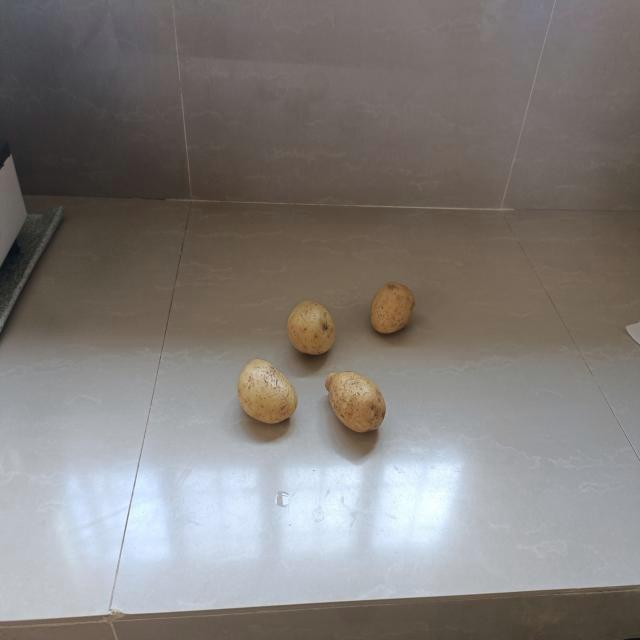potato: (235, 355, 300, 429), (324, 368, 392, 437), (284, 293, 338, 359), (369, 279, 419, 338)
